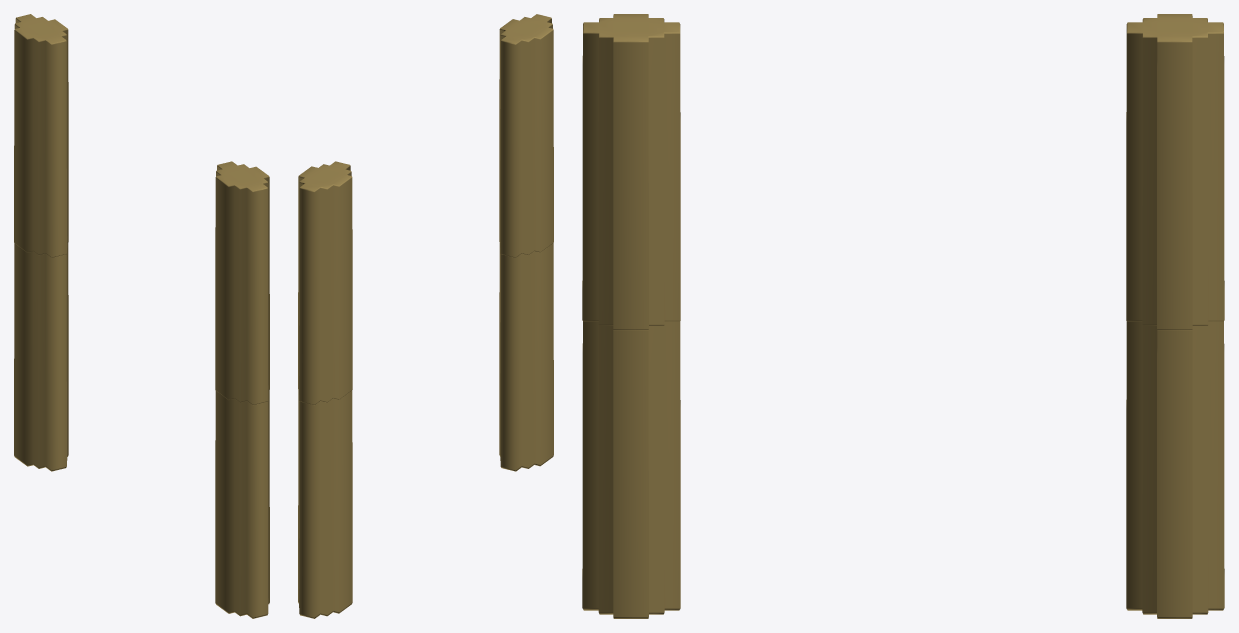
Rendered from Wall_Arc_05B_Lod0.fbx.
The picture shows the model from 3 angles, left to right: view 1: azimuth 30°, elevation 25°; view 2: azimuth 150°, elevation 25°; view 3: azimuth 270°, elevation 25°; orthographic projection. The views are drawn at different scales.
Parts seen in each view (by area): view 1: Wall_Arc_05B_Lod0; view 2: Wall_Arc_05B_Lod0; view 3: Wall_Arc_05B_Lod0.
Part boxes in pixels (x1,y1,x2,y2): Wall_Arc_05B_Lod0: (14, 14, 269, 618); Wall_Arc_05B_Lod0: (298, 14, 553, 618); Wall_Arc_05B_Lod0: (582, 14, 1224, 618).
Bounding box in the file's own units: 60.37 × 596 × 600.
